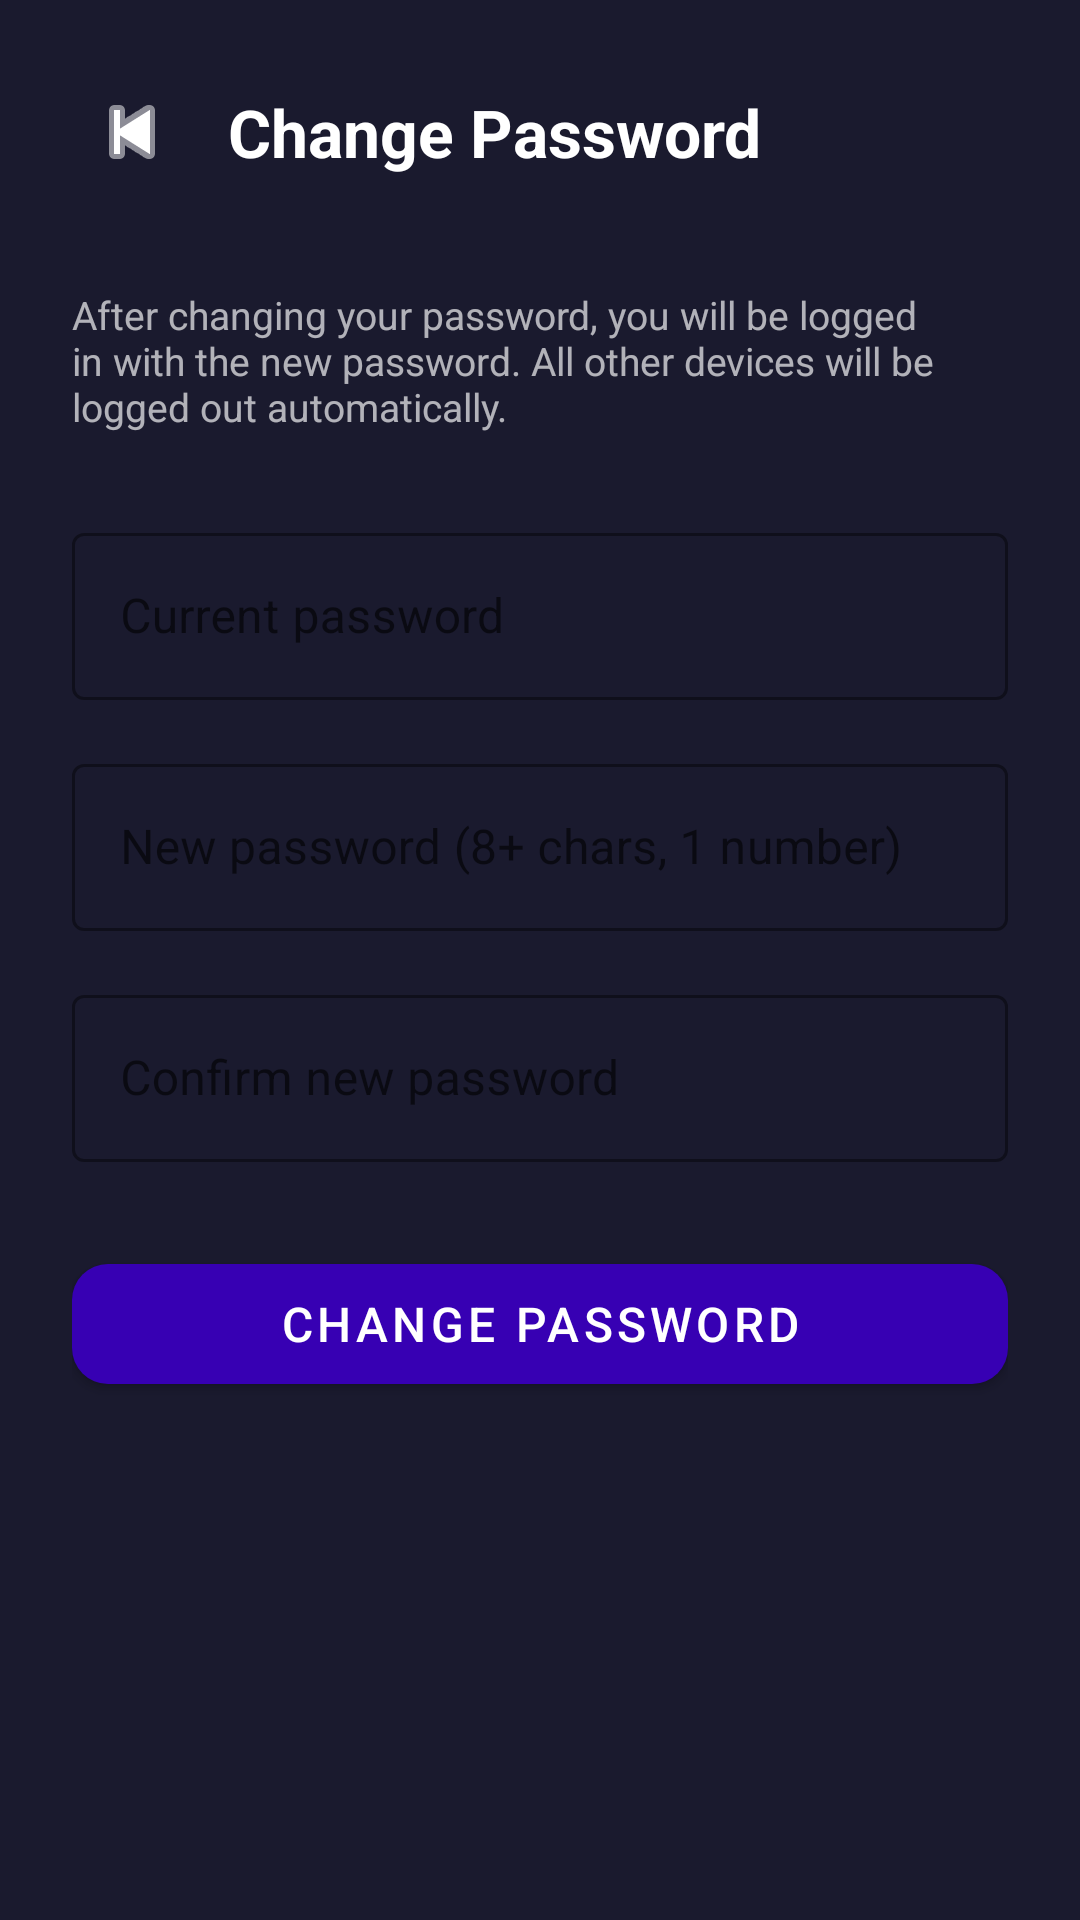

Icons on this 1080×1920 Android screen, each with the point to tap as [x,y]:
Back: [132,132]
